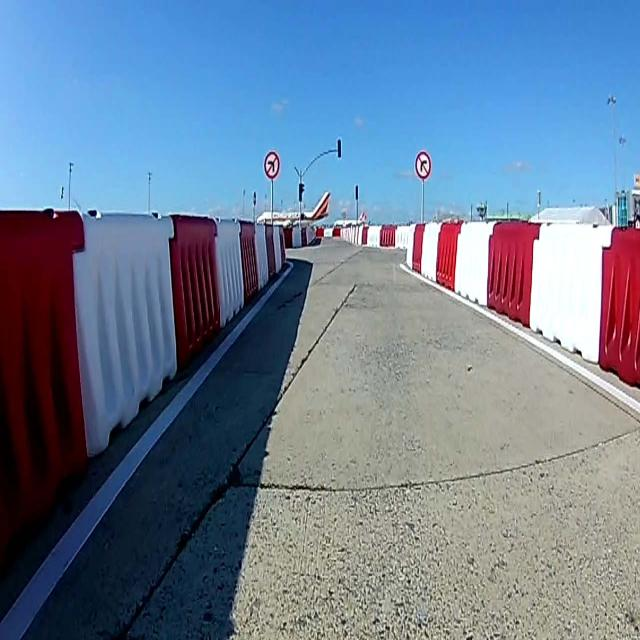sagadonulmez: (415, 150, 431, 179)
soladonulmez: (263, 151, 279, 177)
